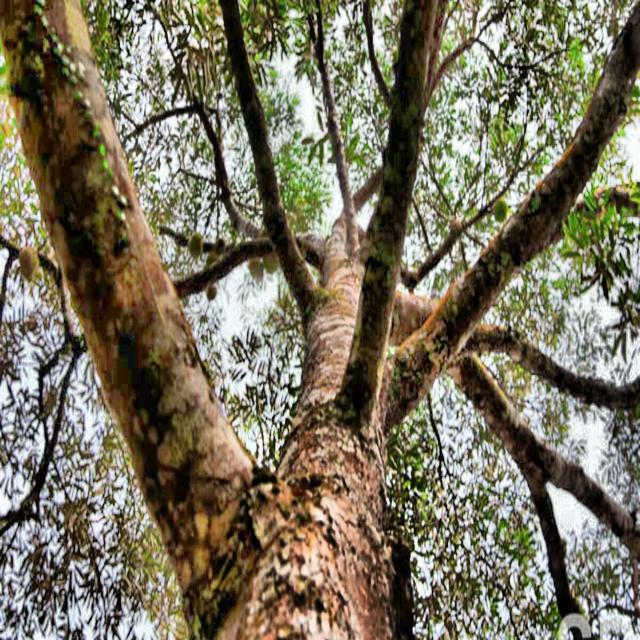arvore: (169, 168, 395, 640)
